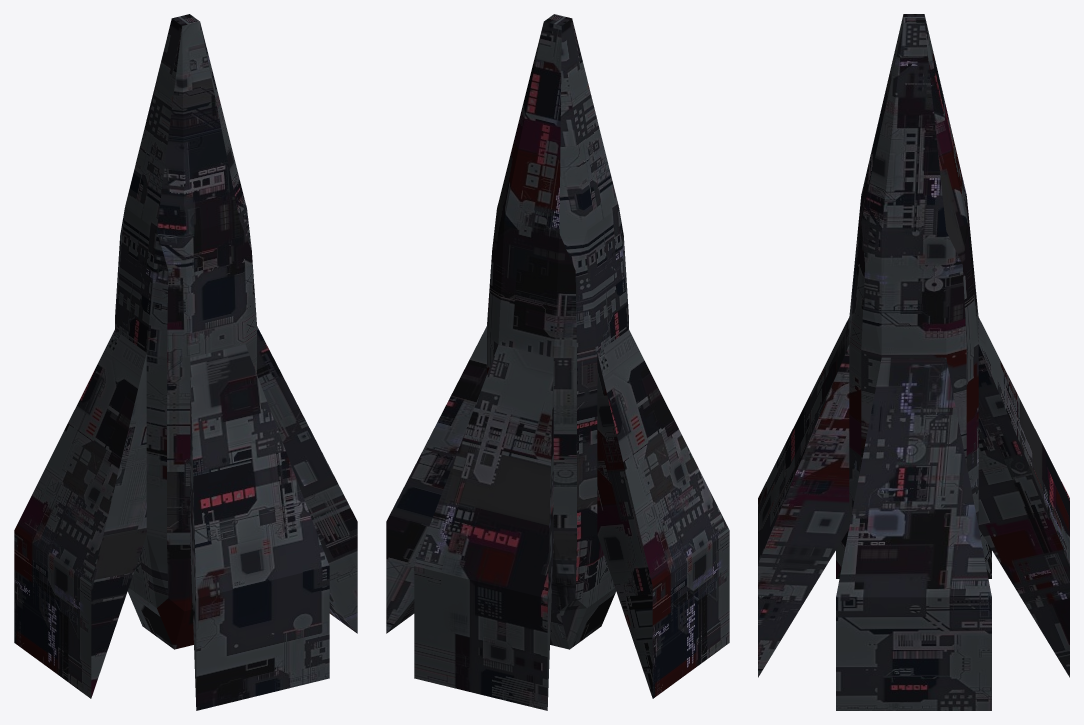
The model's file is Missle.dae.
3 views of the same model, side by side, from view 1: azimuth 30°, elevation 25°; view 2: azimuth 150°, elevation 25°; view 3: azimuth 270°, elevation 25° (orthographic).
Visible parts, largest first — view 1: Missle; view 2: Missle; view 3: Missle.
Boxes of the visible parts, x1,y1,x2,y2 form: Missle: (14,14,357,710); Missle: (386,14,729,710); Missle: (758,14,1069,710).
Size of the model in its own units: 0.516 by 0.516 by 1.14.
1 material, 1 textured.
